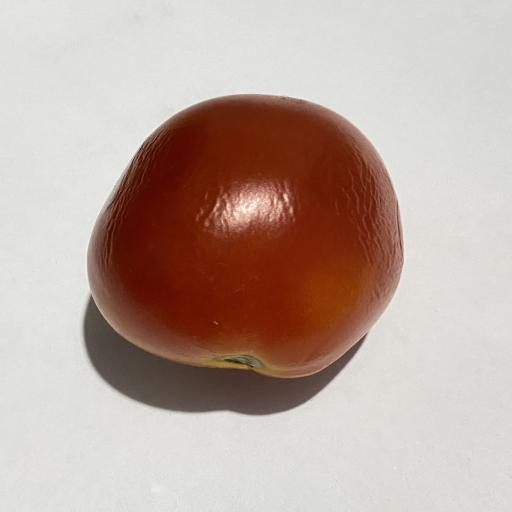spoiled: (88, 95, 403, 377)
